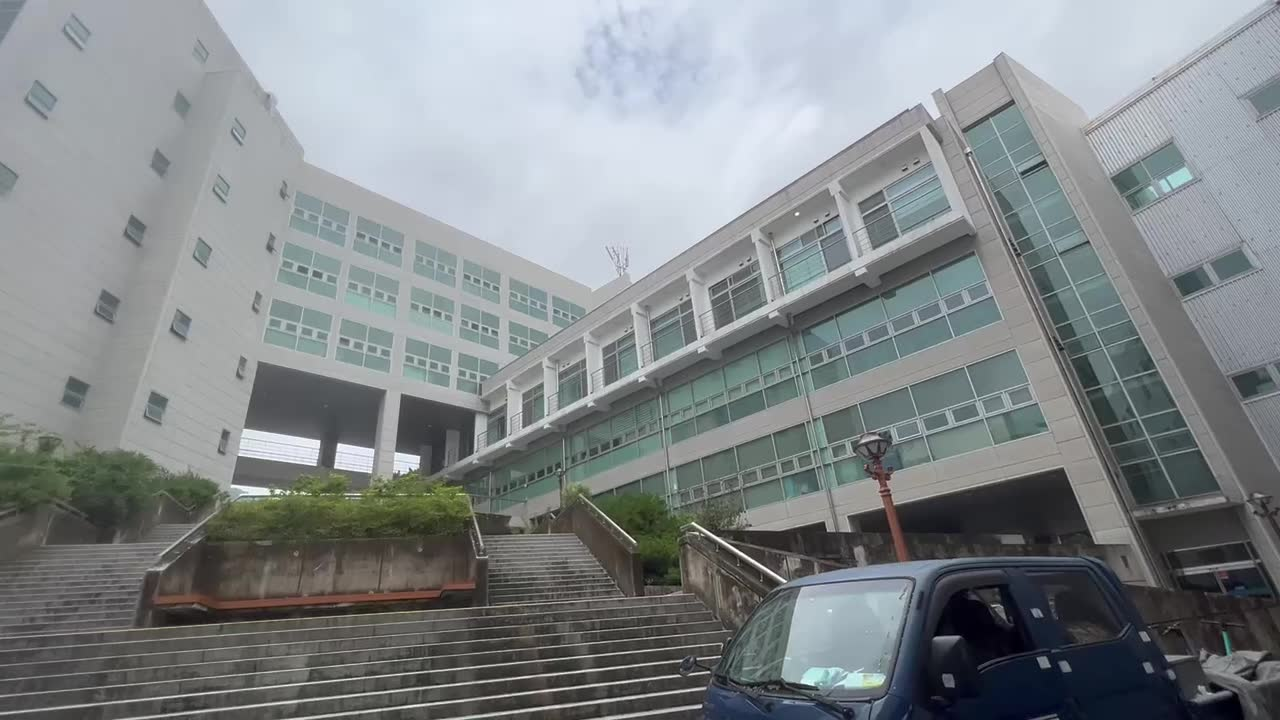medium: (38, 49, 1267, 491)
